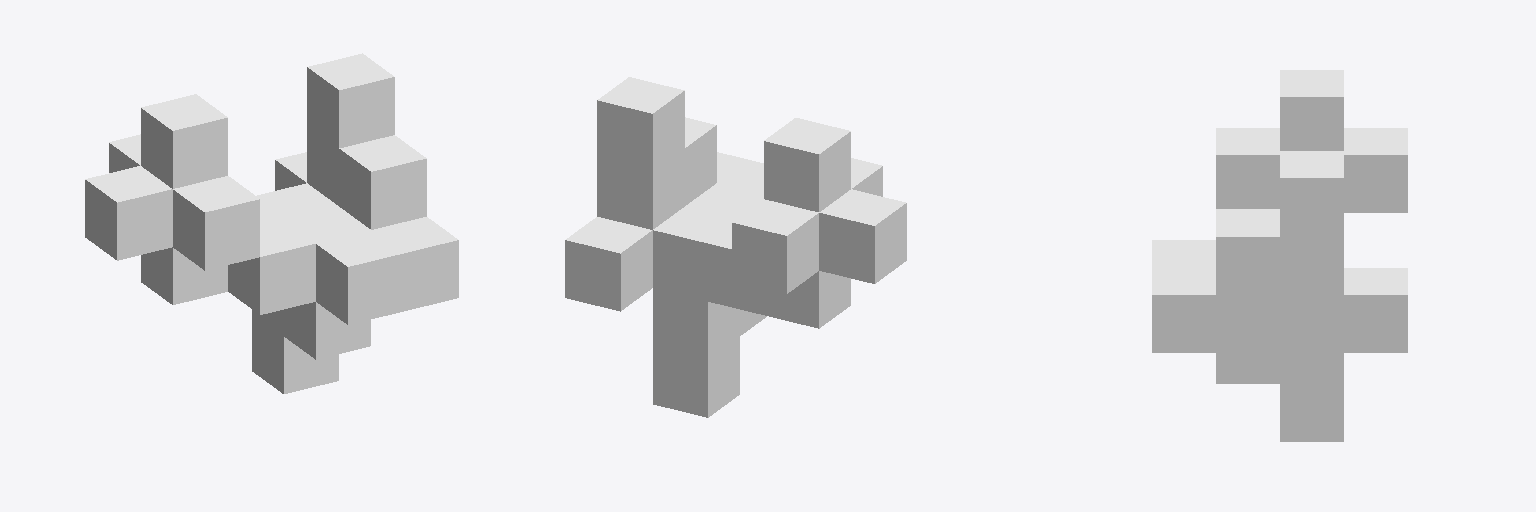
The model's file is Extra-2-MicroRecon_Wing2_R.obj.
3 renders of one model, left to right at view 1: azimuth 30°, elevation 25°; view 2: azimuth 150°, elevation 25°; view 3: azimuth 270°, elevation 25°, orthographic.
Visible parts, largest first — view 1: MicroRecon_Wing2_R; view 2: MicroRecon_Wing2_R; view 3: MicroRecon_Wing2_R.
Part boxes in pixels (bbox=[...]): MicroRecon_Wing2_R: bbox=[85, 53, 458, 393]; MicroRecon_Wing2_R: bbox=[565, 77, 906, 417]; MicroRecon_Wing2_R: bbox=[1152, 70, 1407, 441].
Size of the model in its own units: 0.5 by 0.5 by 0.4.